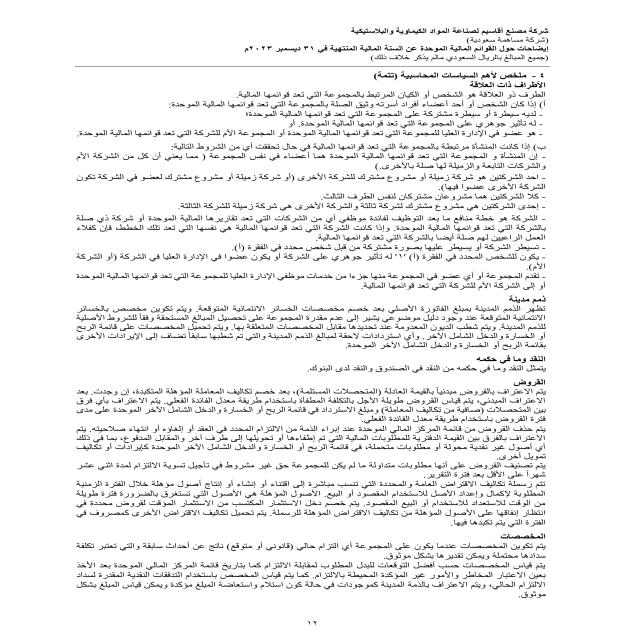notes: (415, 44, 561, 52)
text: (46, 69, 564, 602)
